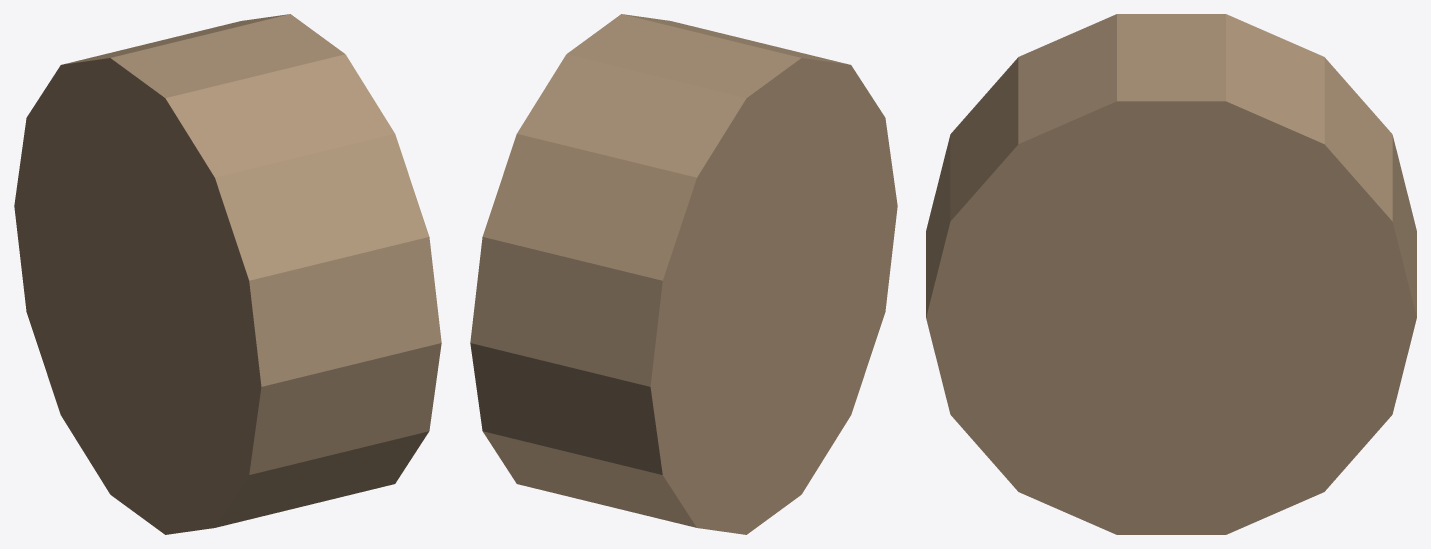
Rendered from BrotherBand.fbx.
The picture shows the model from 3 angles, left to right: view 1: azimuth 30°, elevation 25°; view 2: azimuth 150°, elevation 25°; view 3: azimuth 270°, elevation 25°; orthographic projection.
Visible parts, largest first — view 1: BrotherBand; view 2: BrotherBand; view 3: BrotherBand.
Boxes of the visible parts, left/top/right/bottom form: BrotherBand: left=14, top=14, right=441, bottom=534; BrotherBand: left=470, top=14, right=897, bottom=534; BrotherBand: left=926, top=14, right=1416, bottom=534.
Bounding box in the file's own units: 3.2 × 7.41 × 7.6.
